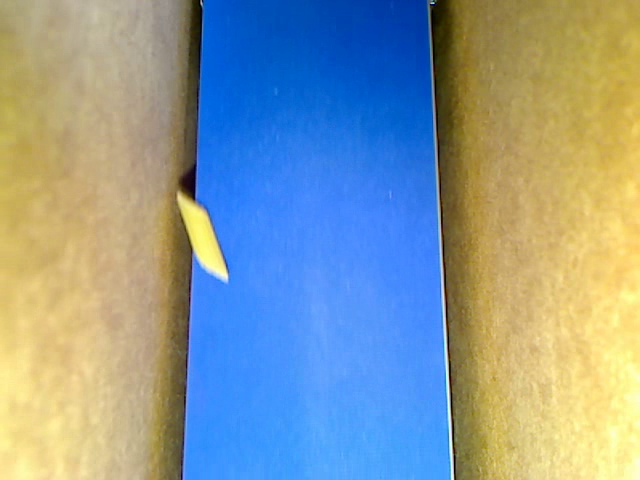penne: (177, 191, 230, 280)
